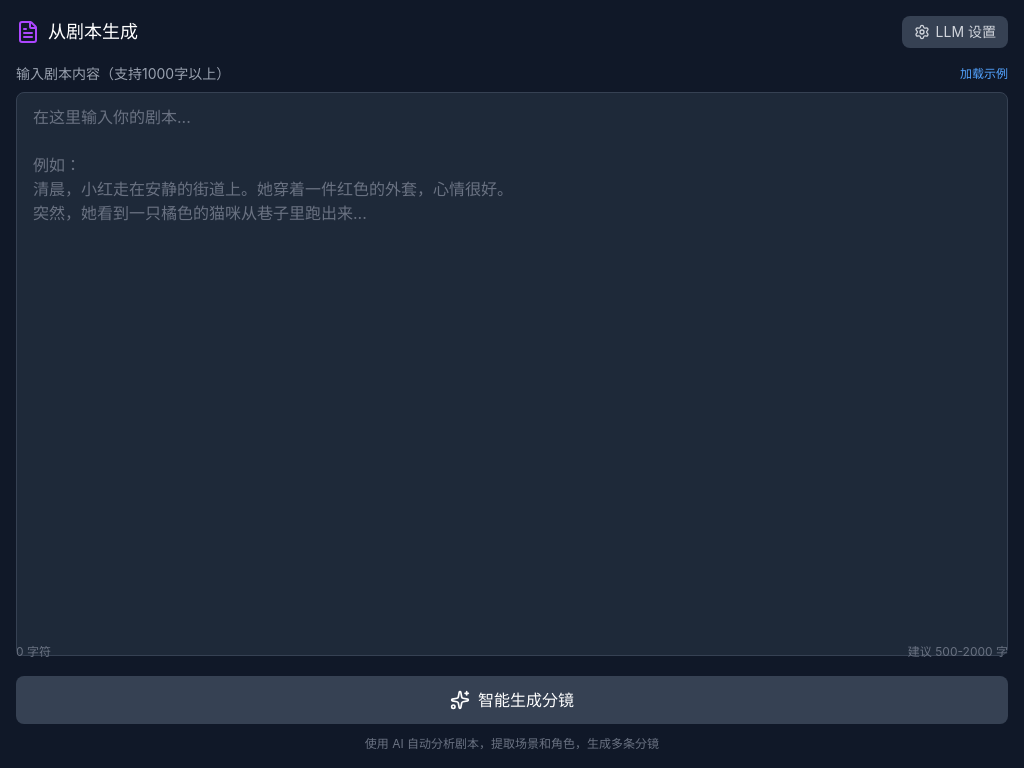
Scenario: ScriptToShots Component › 可完成生成预览并导入分镜
Type "测试剧本：主角在雨夜追踪线索。" into the text box with placeholder "在这里输入你的剧本". click: {"x": 512, "y": 374}
box: [16,92,1008,656]
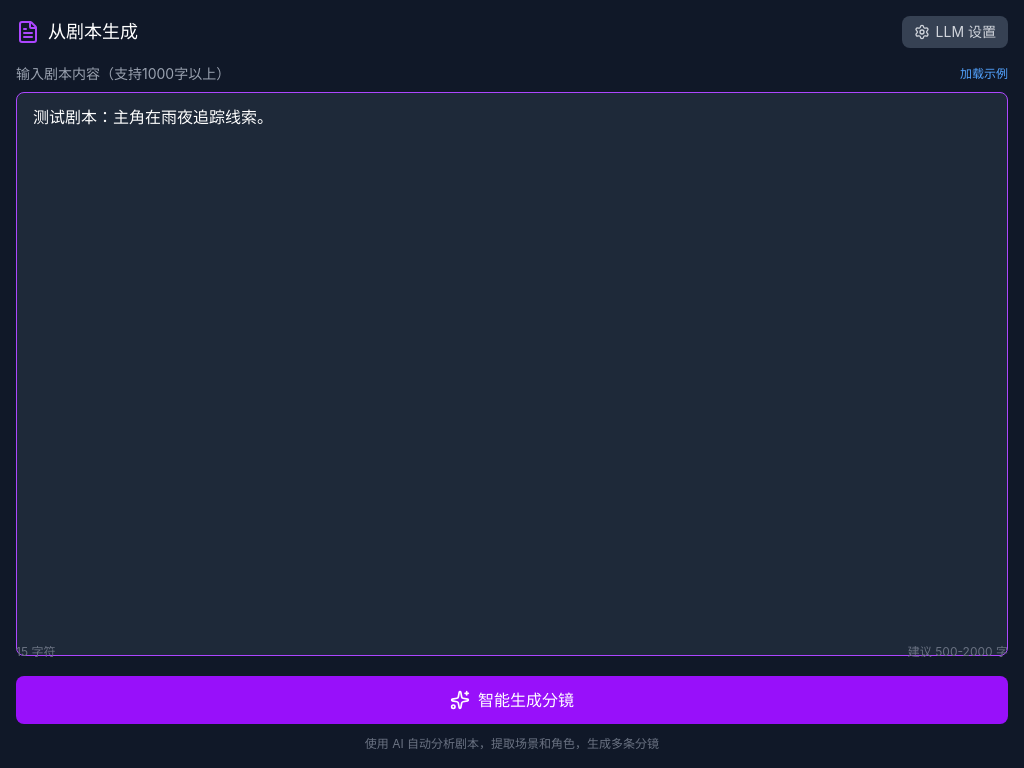
Click the button "智能生成分镜". click: {"x": 512, "y": 700}
box: [16,676,1008,724]
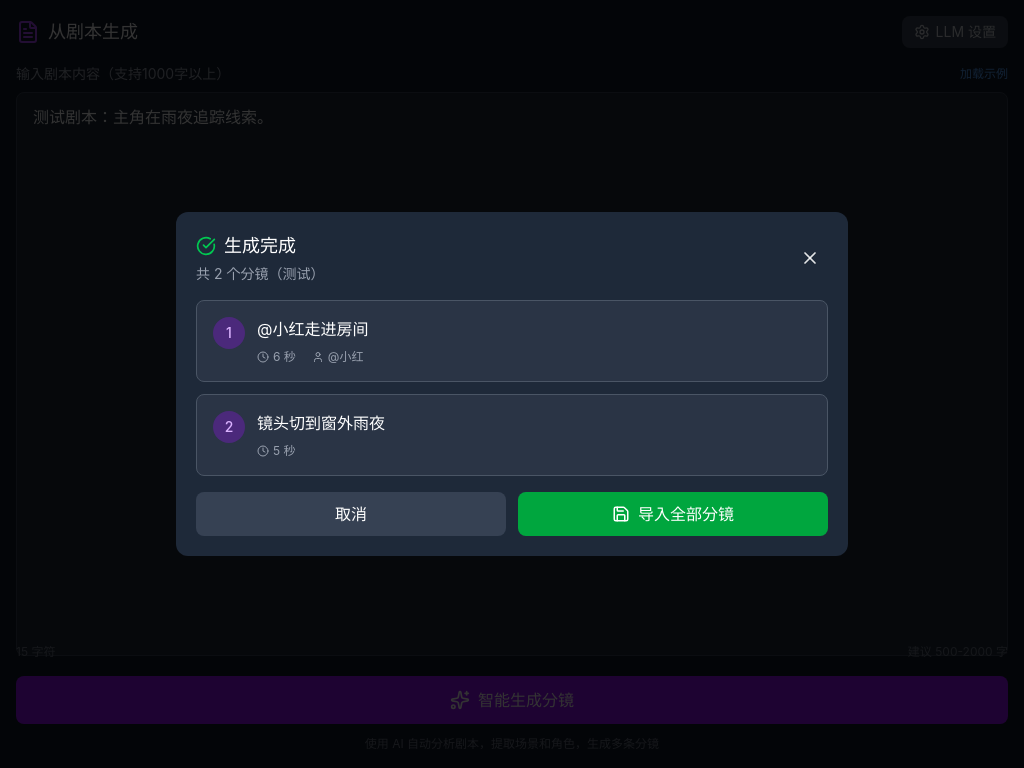
expect the heading "生成完成" is shown: met, box [196,235,296,256]
expect the text "共 2 个分镜（测试）" is shown: met, box [196,264,324,284]
Click the button "导入全部分镜". click: {"x": 673, "y": 514}
box: [518,492,828,536]
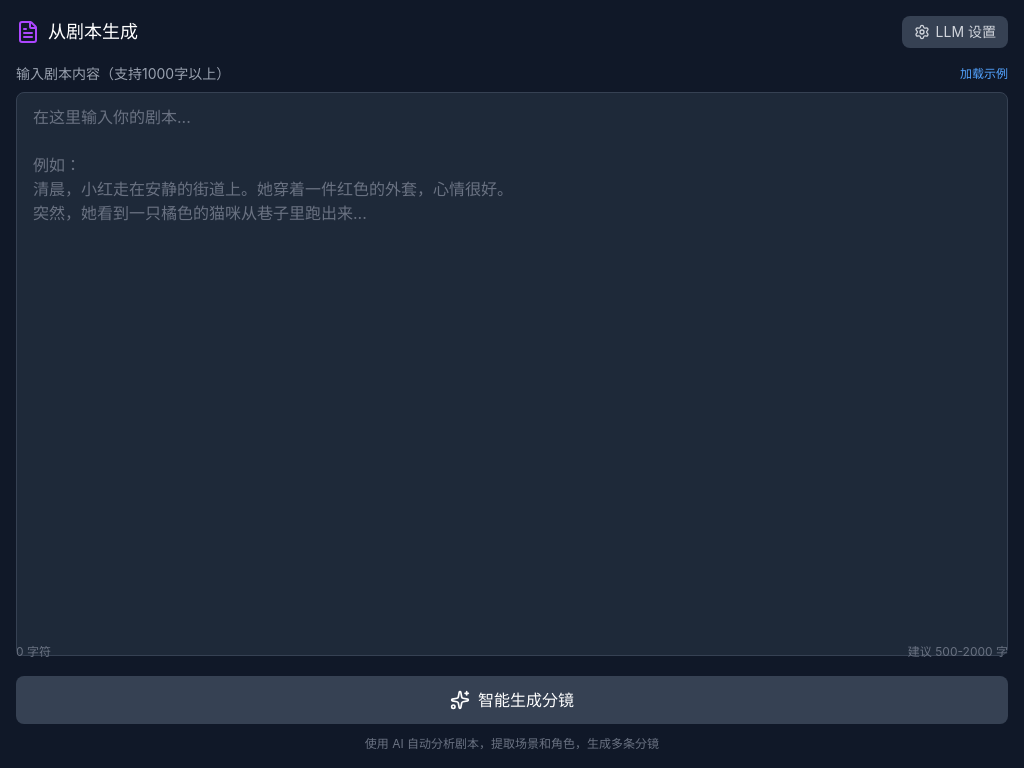
expect the heading "生成完成" is gone: met
